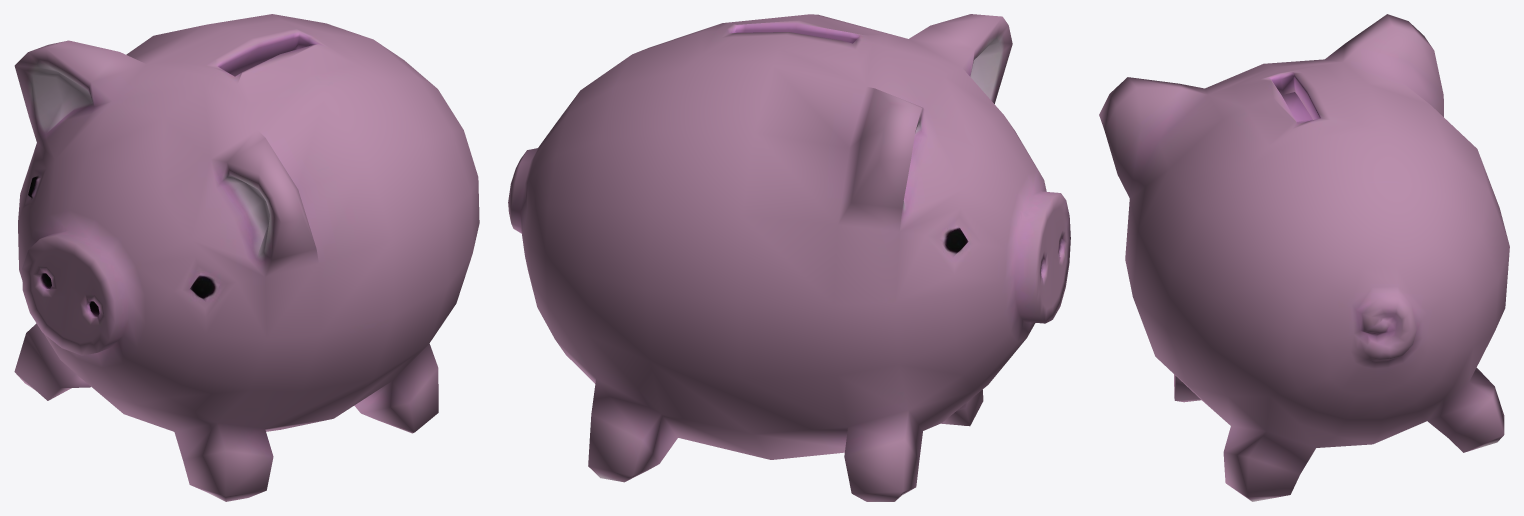
3 views of the same model, side by side, from view 1: azimuth 30°, elevation 25°; view 2: azimuth 150°, elevation 25°; view 3: azimuth 270°, elevation 25° (orthographic). The views are drawn at different scales.
Parts seen in each view (by area): view 1: Porcelain piglet; view 2: Porcelain piglet; view 3: Porcelain piglet.
Boxes of the visible parts, bbox=[...] form: Porcelain piglet: bbox=[14, 14, 479, 501]; Porcelain piglet: bbox=[508, 14, 1070, 501]; Porcelain piglet: bbox=[1099, 14, 1509, 501].
Bounding box in the file's own units: 1.05 × 0.8798 × 0.9237.
Materials: 1 (1 with a texture image).
